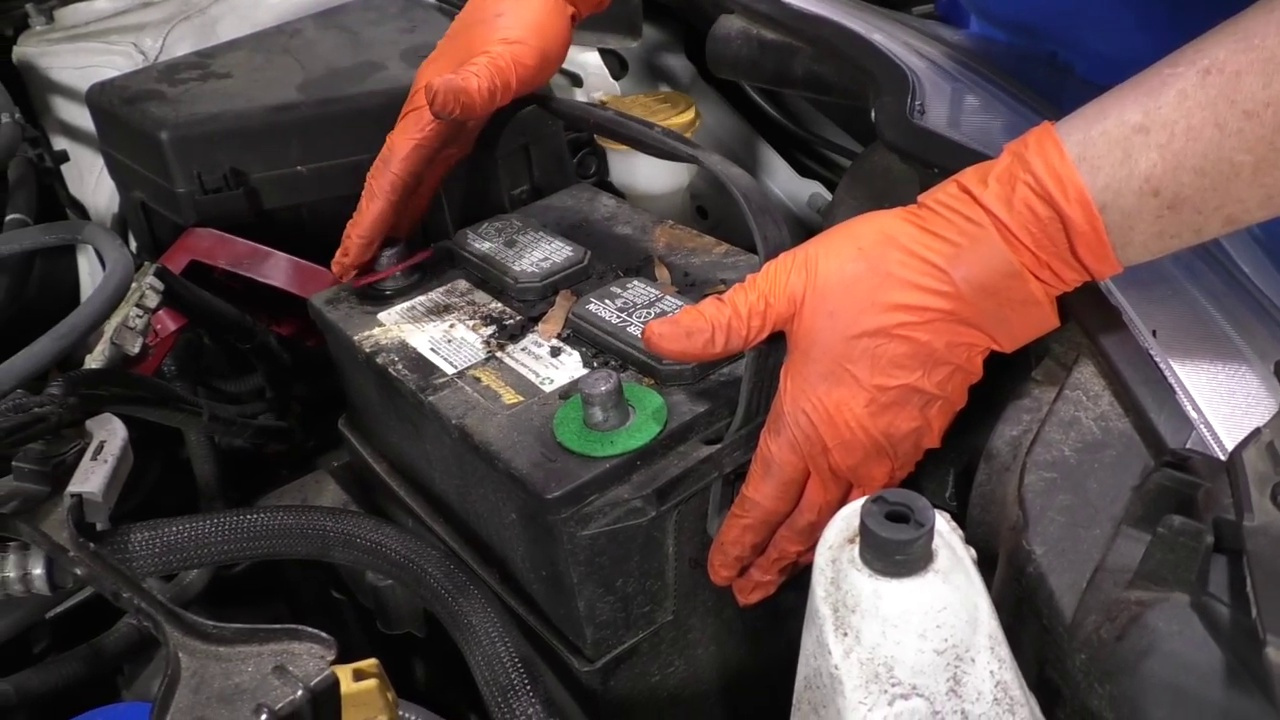battery: (325, 176, 782, 481)
neg_disconnected: (527, 329, 674, 473)
neg_touched: (544, 258, 785, 539)
pos_touched: (202, 190, 440, 326)
